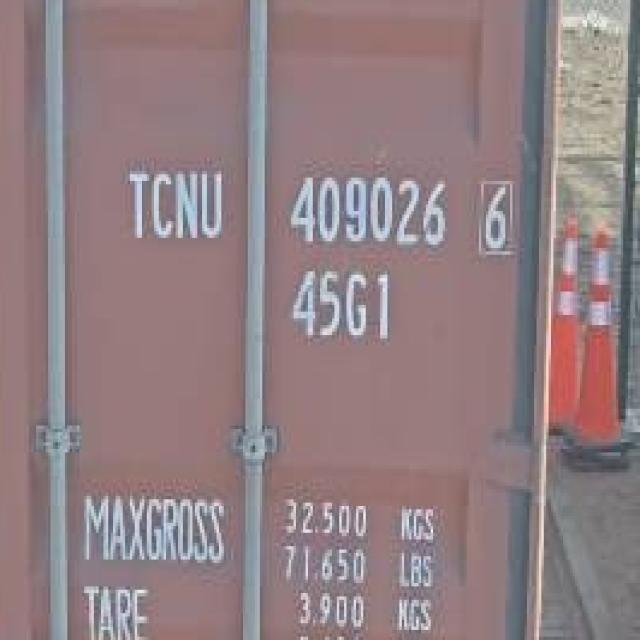dv: (470, 172, 520, 260)
owner: (121, 154, 232, 254)
serial: (281, 167, 455, 256)
size: (281, 259, 414, 353)
